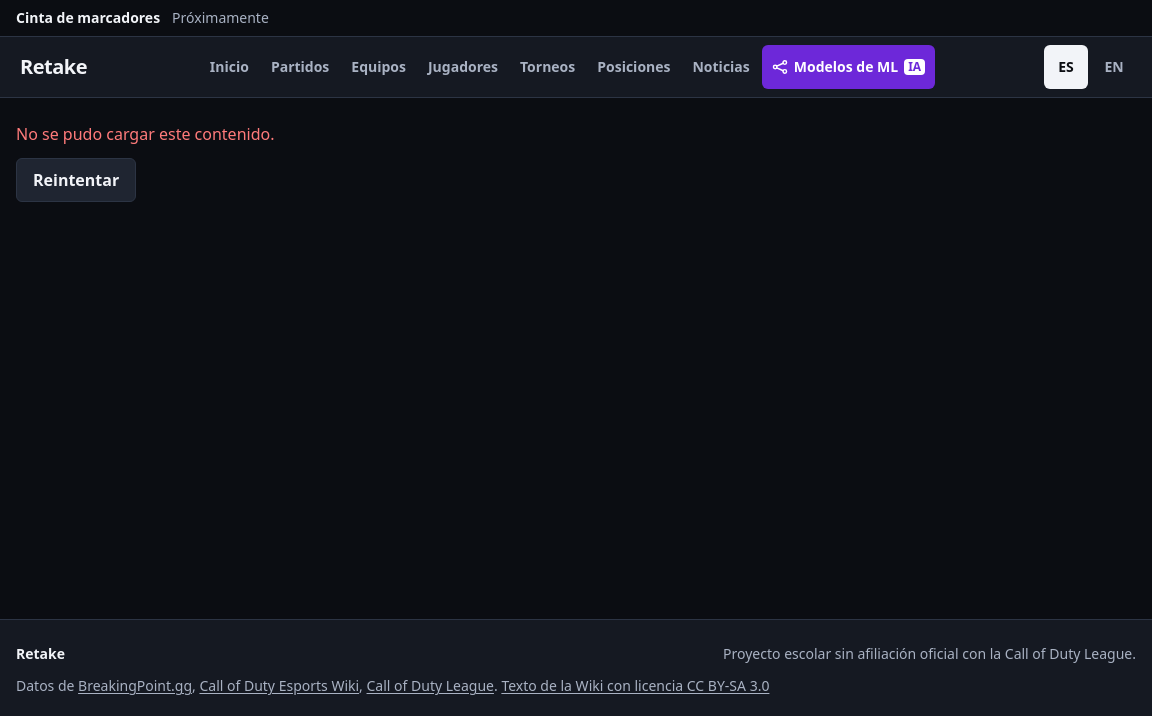
Test: página de administración (T-077 a T-079) › si no se puede comprobar la sesión, error de bloque con "Reintentar" y no la pantalla de acceso (RF-115)
This screenshot has width=1152, height=716.
Click the button "Reintentar".
click(76, 180)  # box [16,158,136,202]
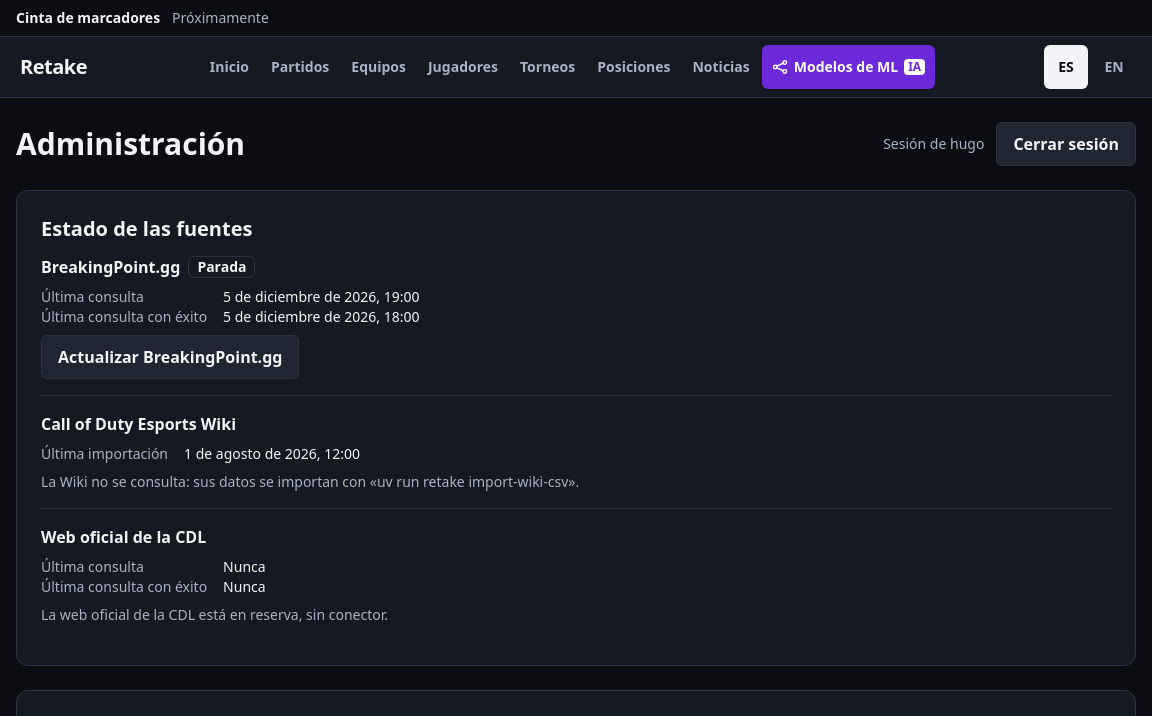
Check: the heading "Estado de las fuentes" is shown, box [41,215,252,242]
